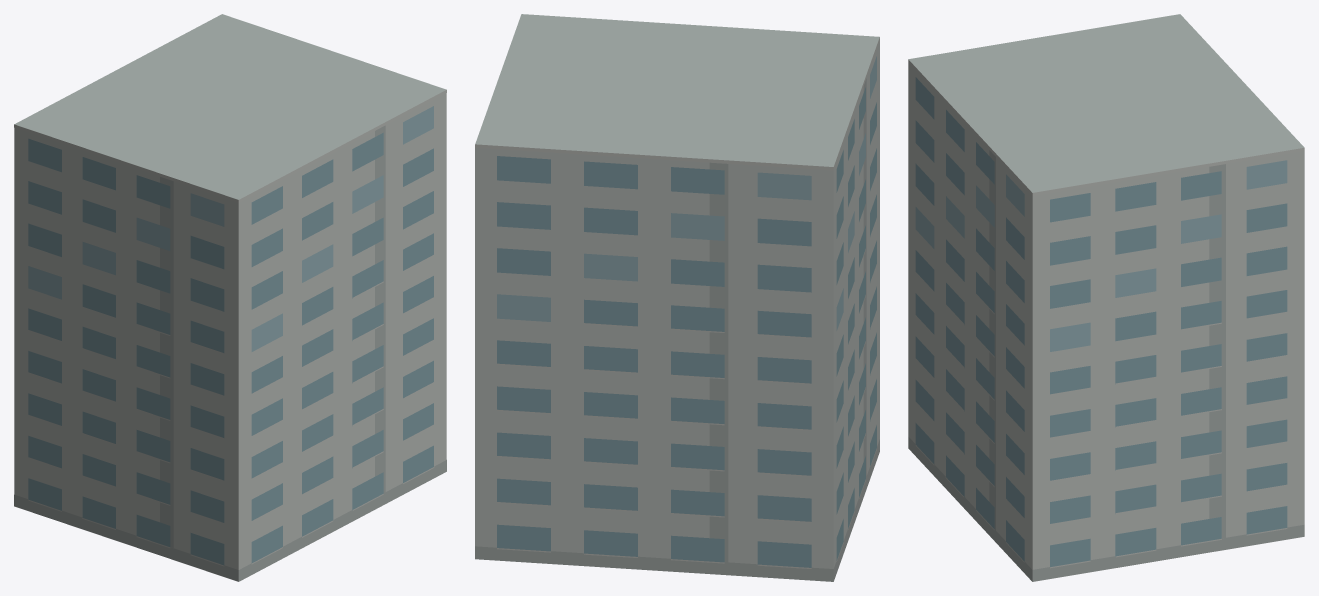
File: residential-6dfbc1bf-924e-487e-9324-ef1afbe1639f.glb
3 renders of one model, left to right at view 1: azimuth 30°, elevation 25°; view 2: azimuth 150°, elevation 25°; view 3: azimuth 270°, elevation 25°, orthographic. The views are drawn at different scales.
Parts seen in each view (by area): view 1: residential-6dfbc1bf-924e-487e-9324-ef1afbe1639f.tmp; view 2: residential-6dfbc1bf-924e-487e-9324-ef1afbe1639f.tmp; view 3: residential-6dfbc1bf-924e-487e-9324-ef1afbe1639f.tmp.
Part boxes in pixels (x1,y1,x2,y2): residential-6dfbc1bf-924e-487e-9324-ef1afbe1639f.tmp: (14, 14, 446, 581); residential-6dfbc1bf-924e-487e-9324-ef1afbe1639f.tmp: (475, 14, 879, 581); residential-6dfbc1bf-924e-487e-9324-ef1afbe1639f.tmp: (908, 14, 1304, 581).
Size of the model in its own units: 28.61 by 29 by 26.79.
